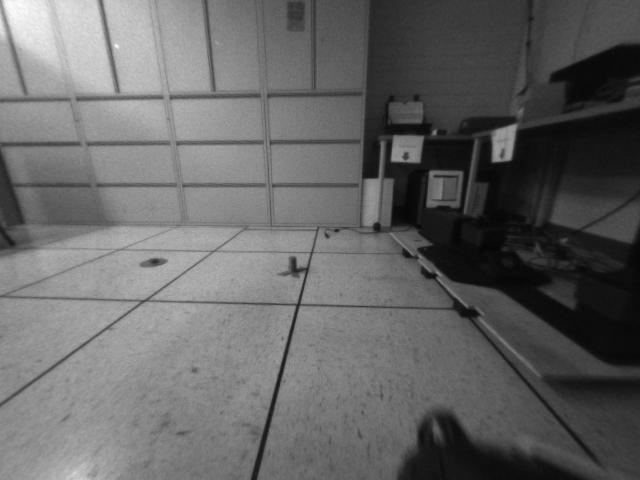X: (276, 250, 309, 279)
